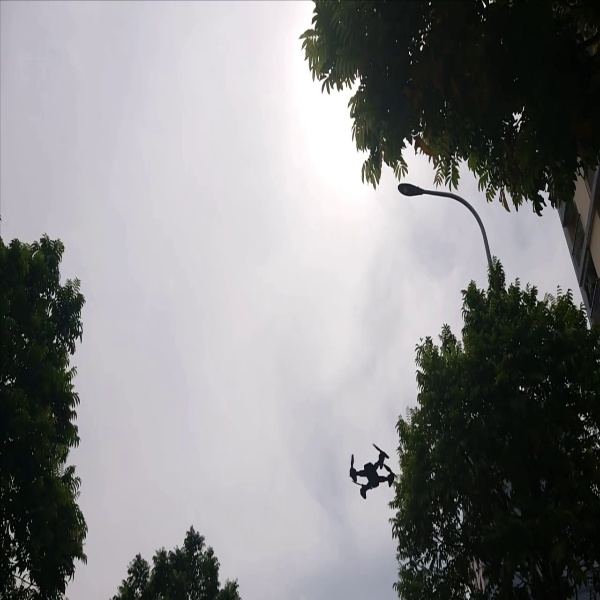drone: (338, 438, 399, 504)
